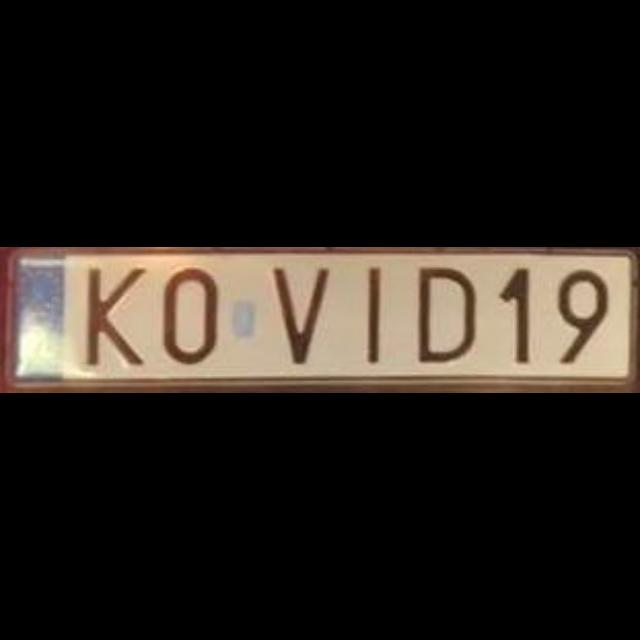pl_license_plate: (14, 253, 626, 374)
